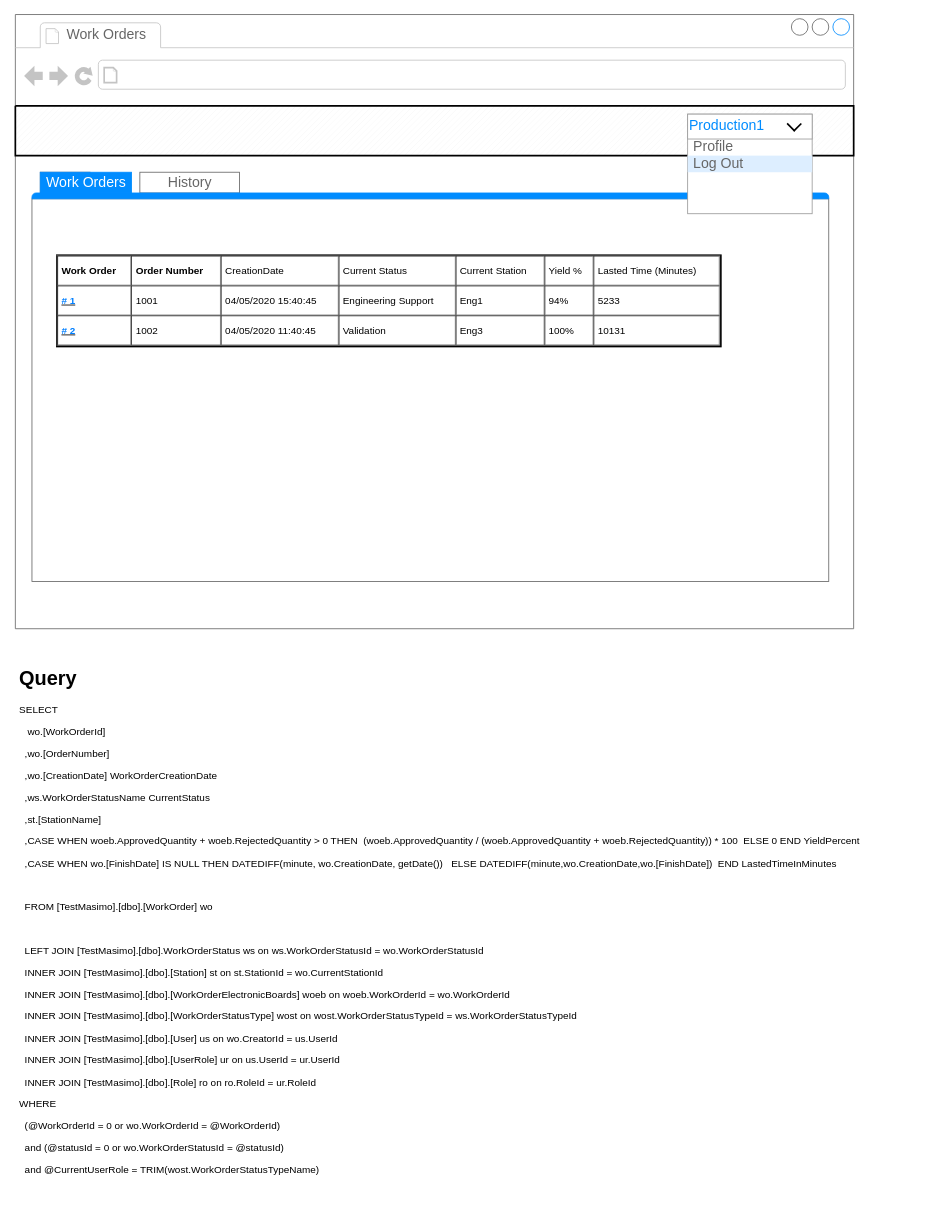
Some shapes in this 950 by 1224 pixel diagram are drawn without their labels. The shapes that lost their labels are listed below. From the top down, each one's centre as x and y in pixels, then its label:
[226,74]: https://www.draw.io
[434,130]: App Name
